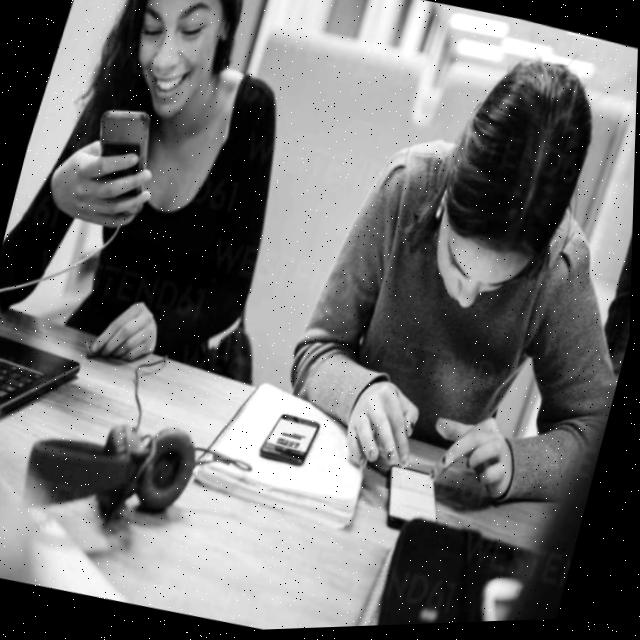phone: (72, 99, 167, 225), (373, 462, 455, 544), (259, 409, 326, 473)
